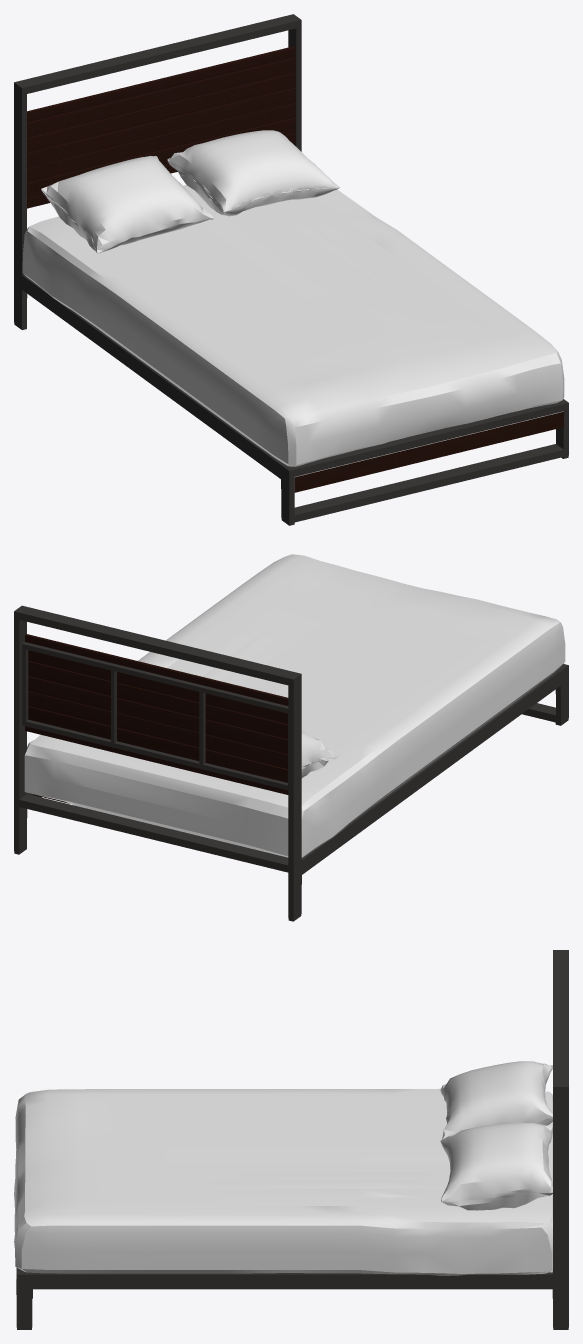
3 renders of one model, top to bottom at view 1: azimuth 30°, elevation 25°; view 2: azimuth 150°, elevation 25°; view 3: azimuth 270°, elevation 25°, orthographic.
Visible parts, largest first — view 1: C-skp3161; view 2: C-skp3161; view 3: C-skp3161.
Boxes of the visible parts, <box> form: C-skp3161: <box>14,14,568,525</box>; C-skp3161: <box>14,554,568,921</box>; C-skp3161: <box>14,950,568,1329</box>.
Bounding box in the file's own units: 1.22 × 1 × 2.07.
3 materials, 1 textured.
